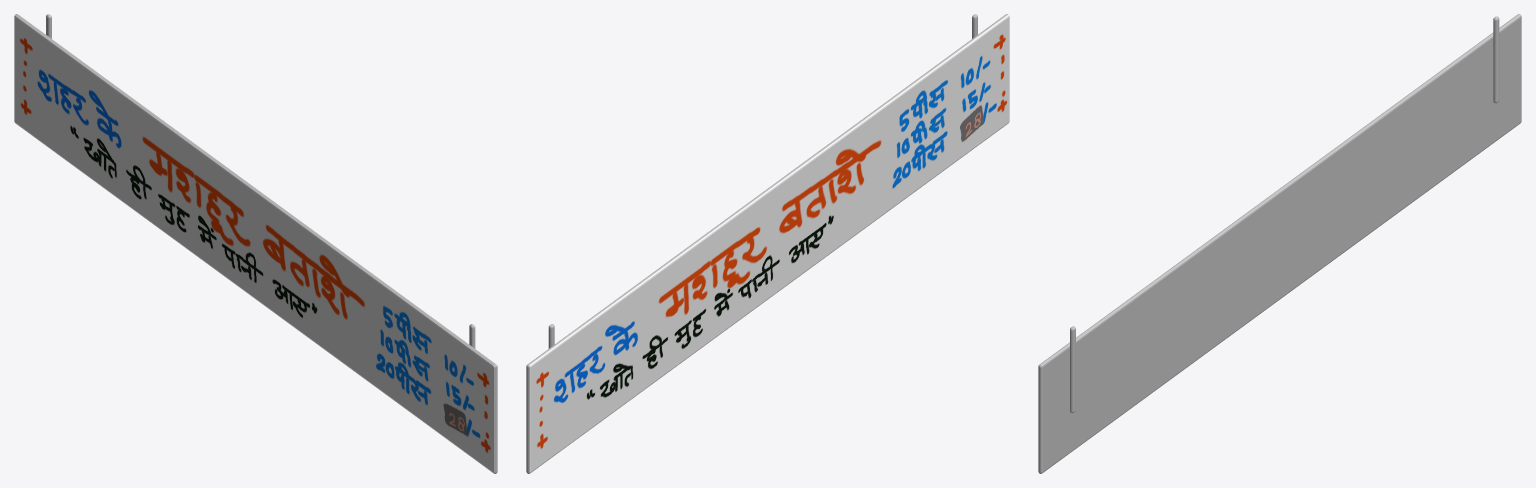
The model's file is DisplayBoard3.fbx.
3 renders of one model, left to right at view 1: azimuth 30°, elevation 25°; view 2: azimuth 150°, elevation 25°; view 3: azimuth 330°, elevation 25°, orthographic.
Parts seen in each view (by area): view 1: TopBoard; view 2: TopBoard; view 3: TopBoard.
Part boxes in pixels (x1=…): TopBoard: x1=14, y1=14, x2=497, y2=473; TopBoard: x1=526, y1=14, x2=1009, y2=473; TopBoard: x1=1038, y1=14, x2=1521, y2=473.
Bounding box in the file's own units: 2.81 × 38.21 × 260.
